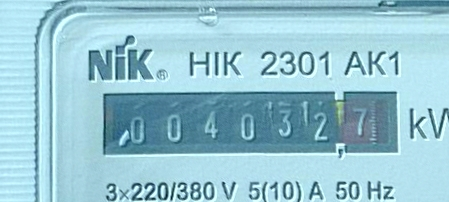0: (162, 110, 182, 144), (126, 111, 145, 145), (236, 109, 255, 142)
2: (310, 108, 328, 142)
3: (273, 106, 292, 138)
4: (198, 106, 219, 143)
7: (350, 104, 368, 137)
screen: (90, 77, 406, 171)
